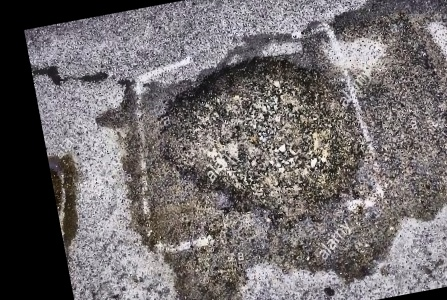pothole: (142, 35, 378, 247)
